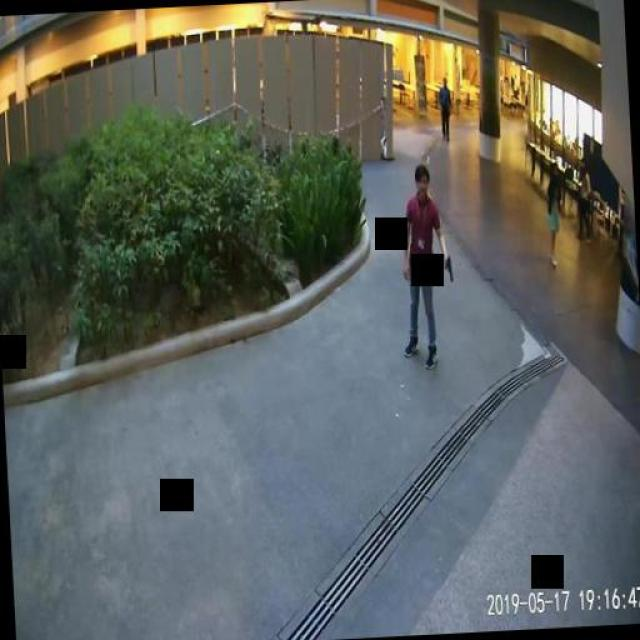gun: (442, 254, 452, 282)
